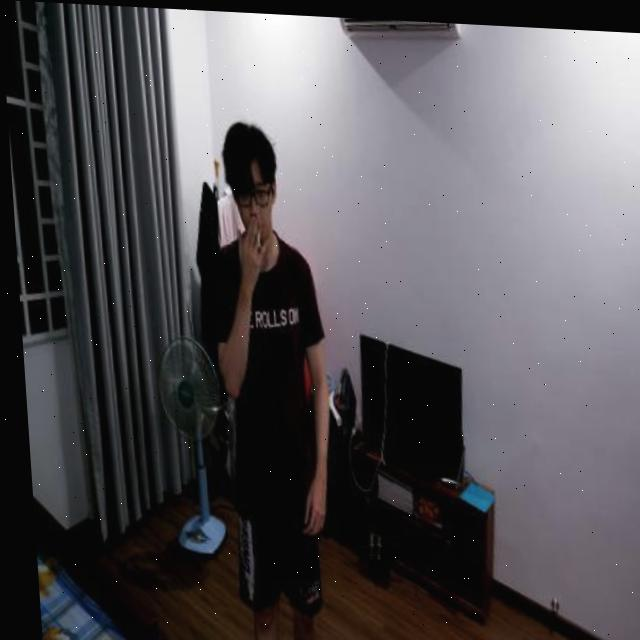cigarette: (253, 225, 258, 249)
